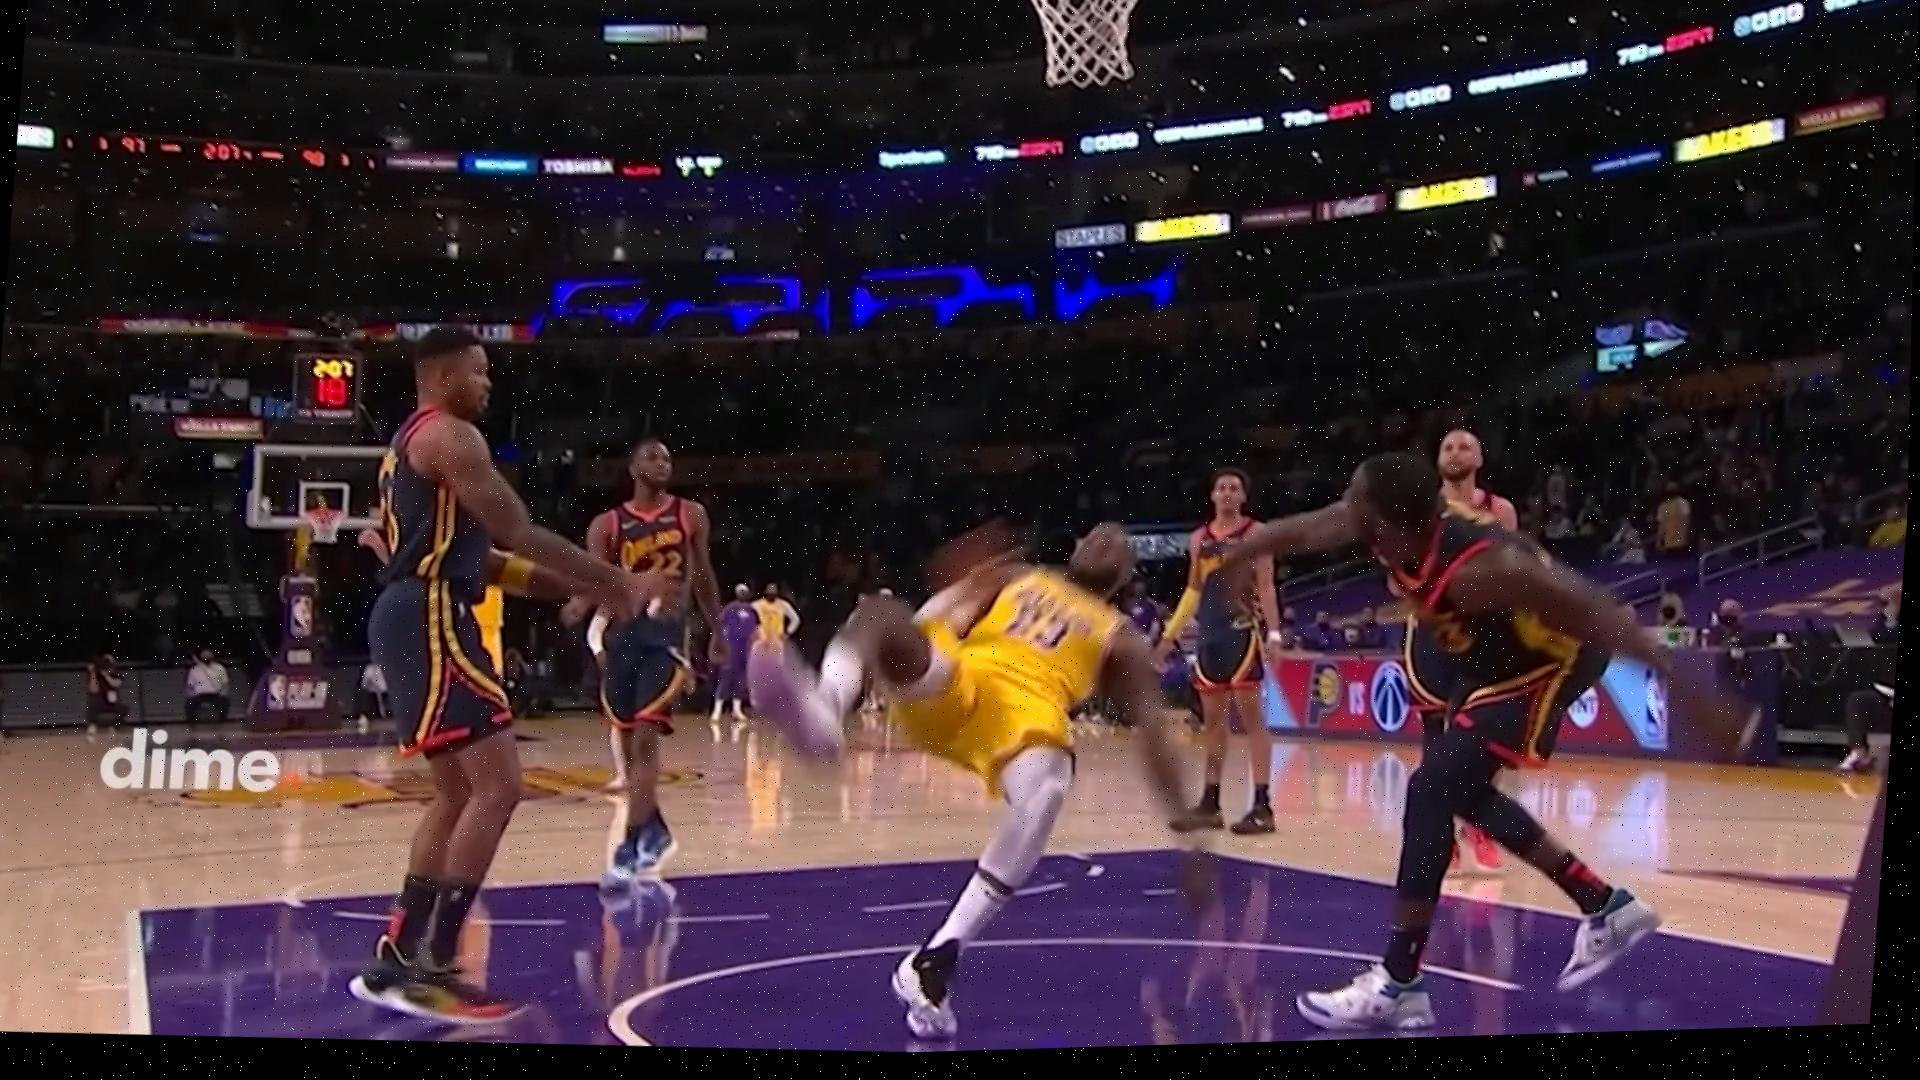no_foul: (690, 371, 1689, 1056)
